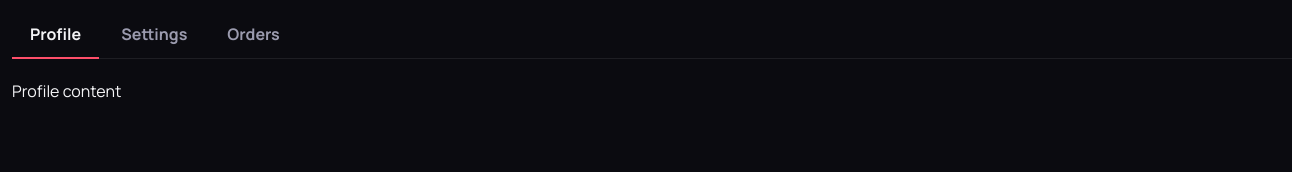
Tabs › клик по вкладке показывает её панель и скрывает остальные
Click the tab "Settings" at [154, 35], box [103,12,205,59]
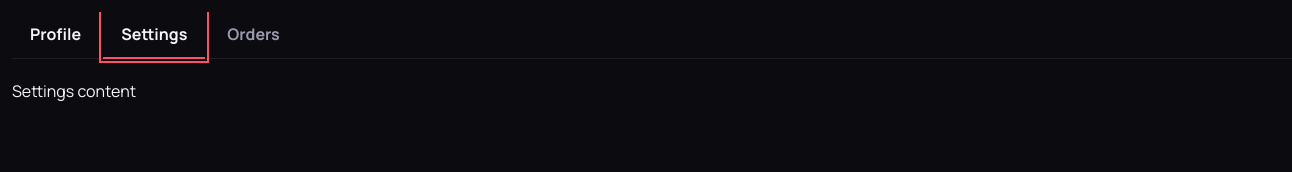
expect the panel "Settings" reads "Settings content": met, box [12,80,136,102]
expect the text "Profile content" is gone: met
